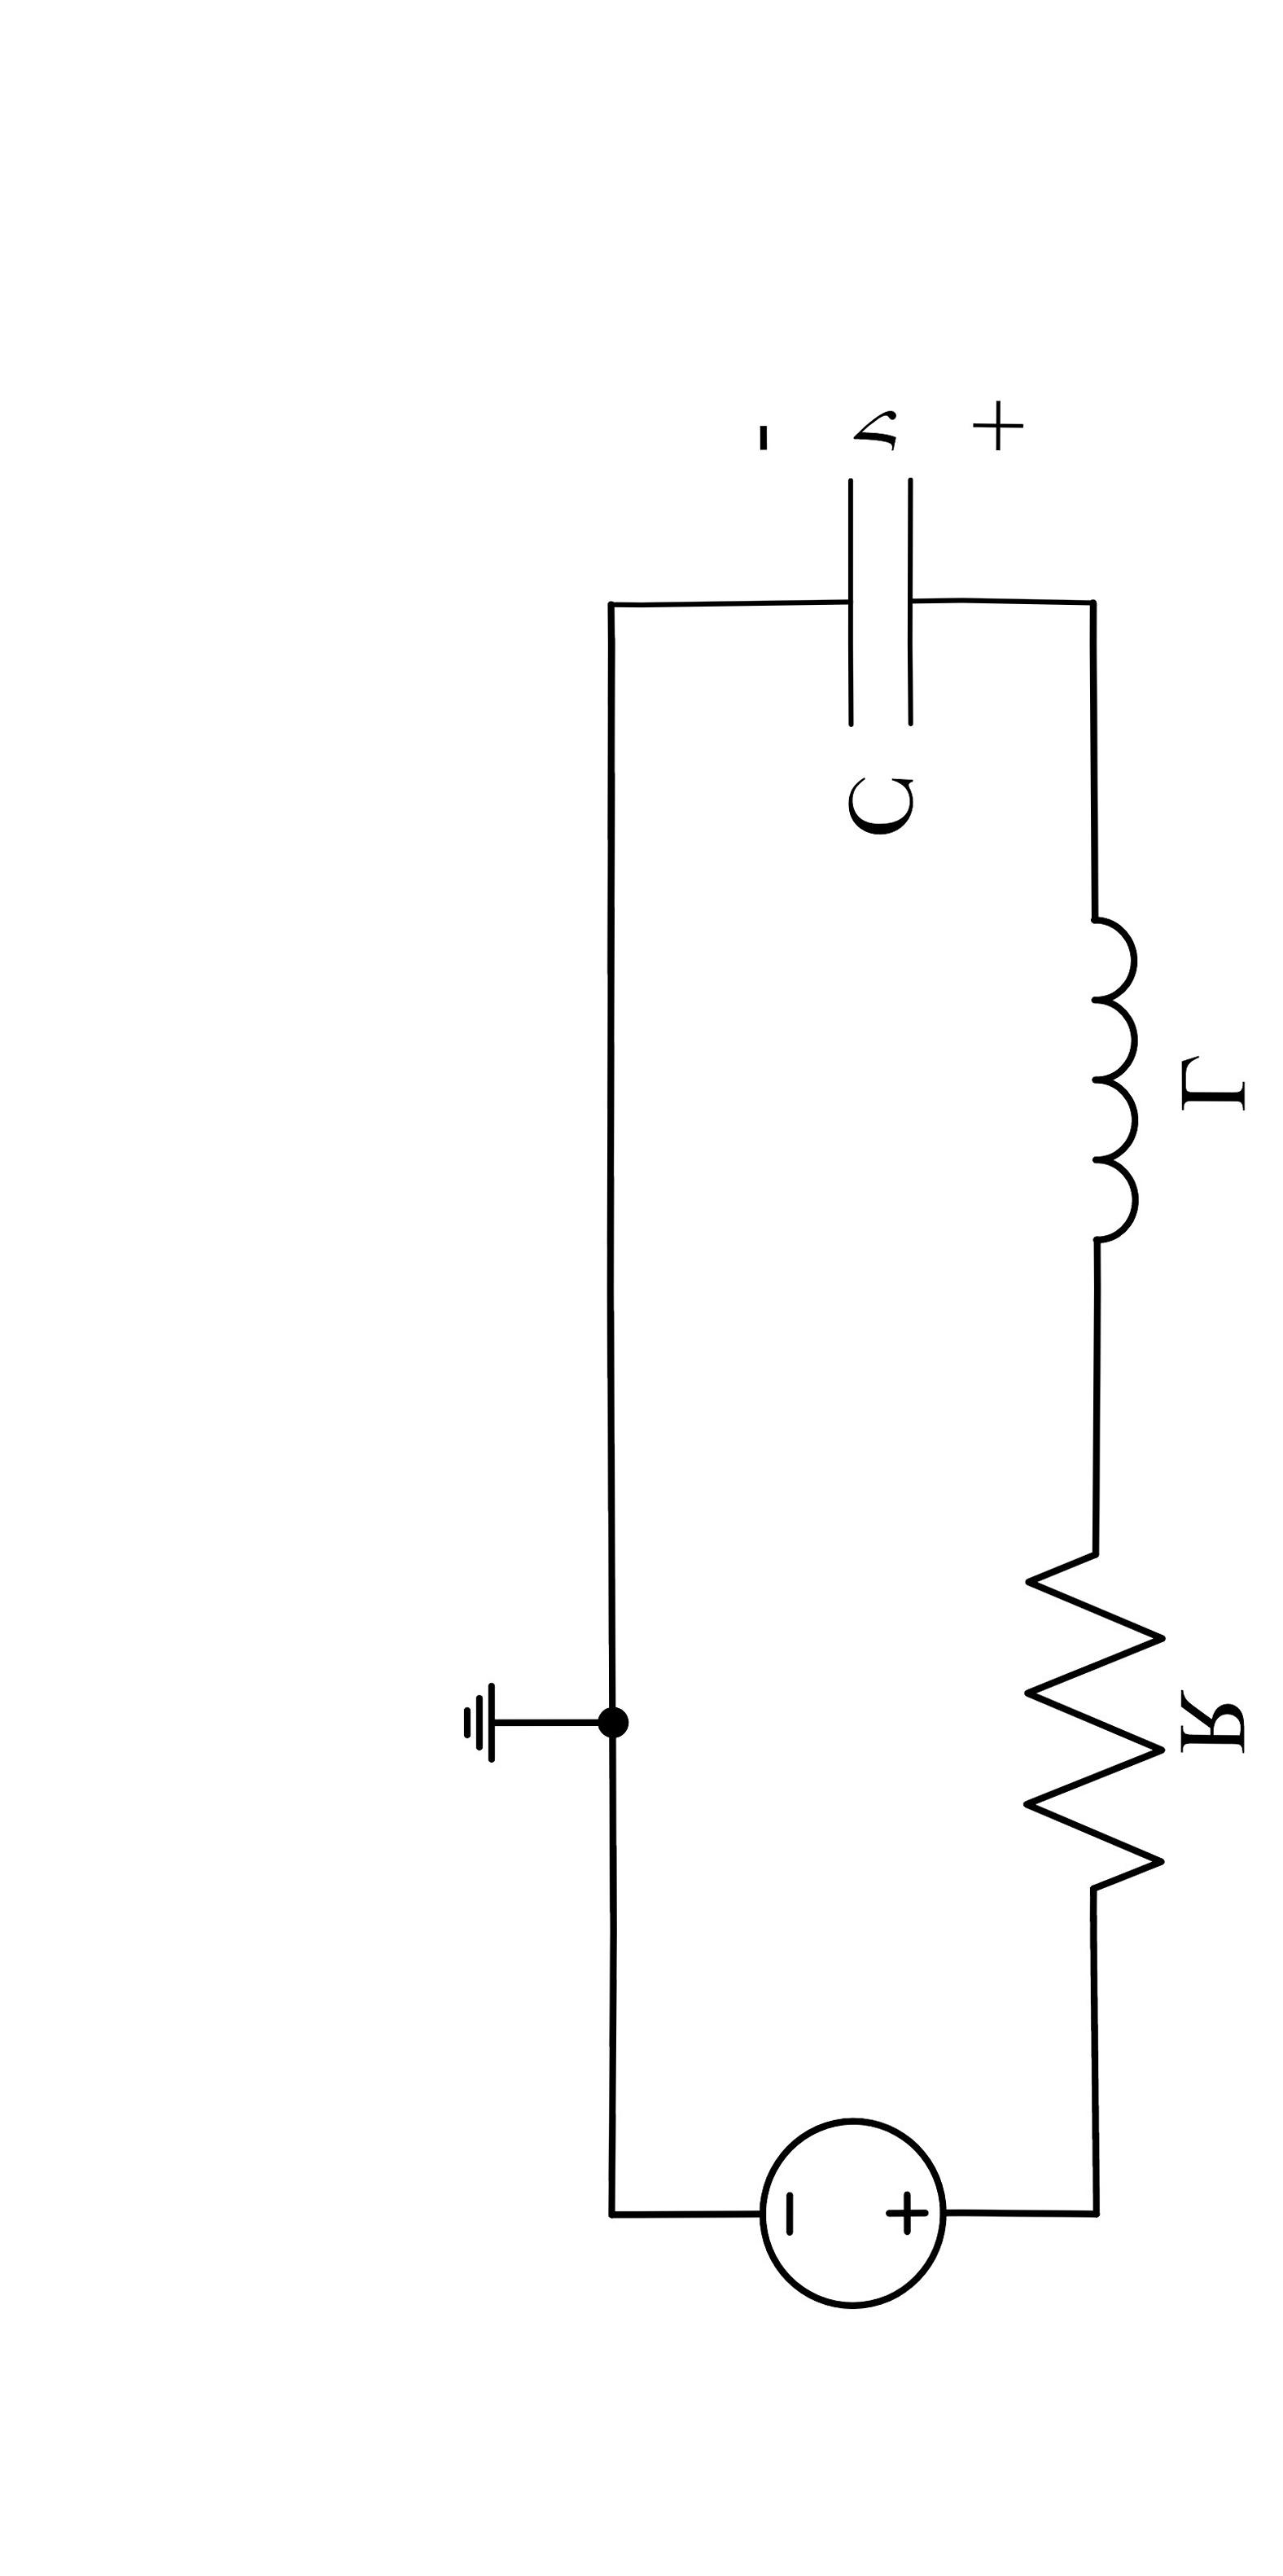Battery: (690, 2037, 1030, 2372)
